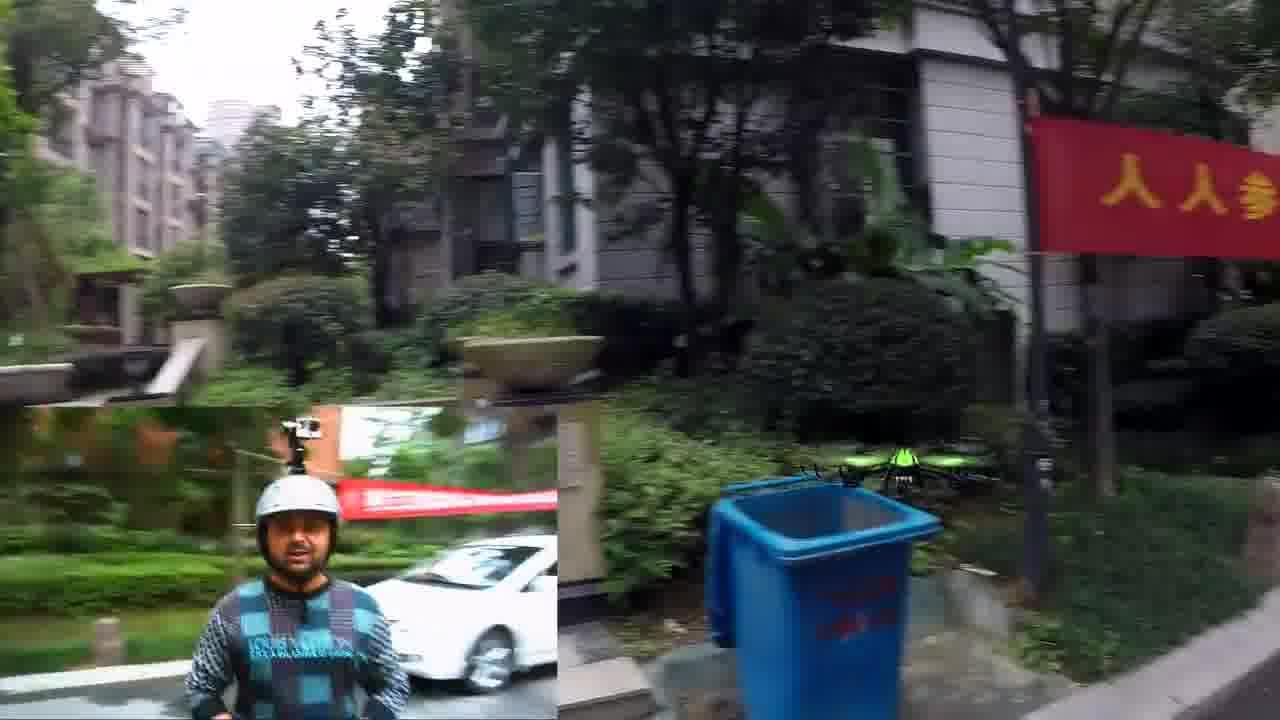drone: (802, 407, 1009, 508)
